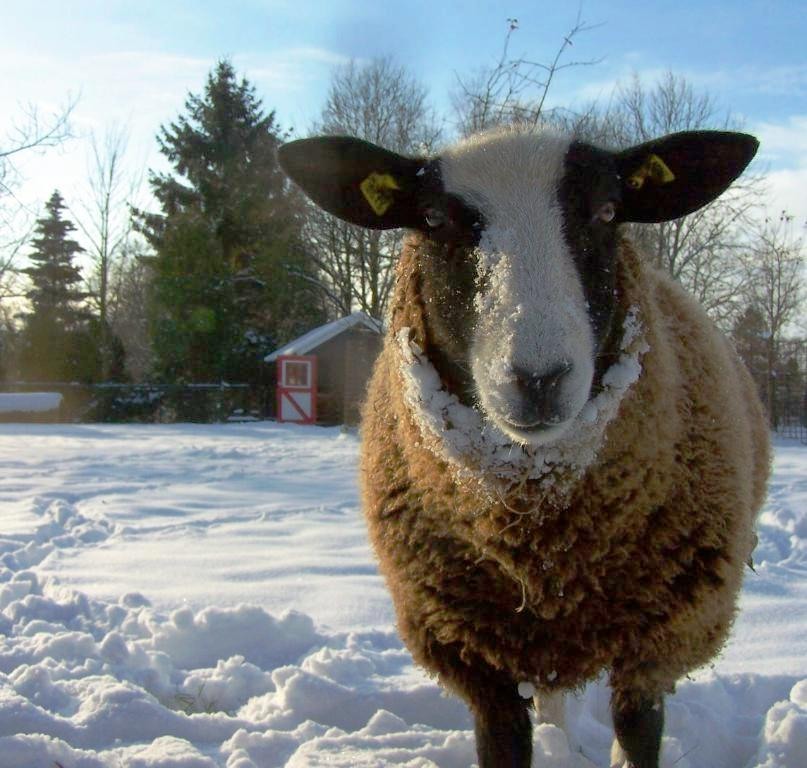Sheep: (274, 114, 771, 768)
